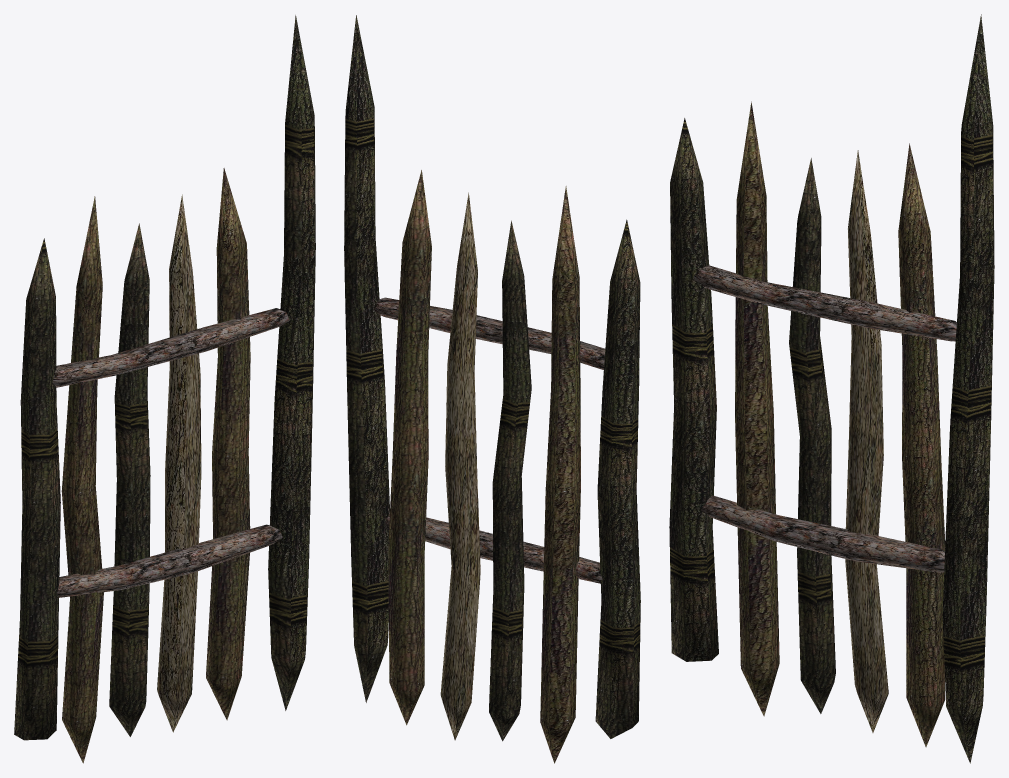
Rendered from GS_MISC_PALISADE_GATE_01.glb.
The picture shows the model from 3 angles, left to right: view 1: azimuth 30°, elevation 25°; view 2: azimuth 150°, elevation 25°; view 3: azimuth 330°, elevation 25°; orthographic projection. The views are drawn at different scales.
Parts seen in each view (by area): view 1: Mesh; view 2: Mesh; view 3: Mesh.
Boxes of the visible parts, bbox=[...] form: Mesh: bbox=[14, 15, 315, 763]; Mesh: bbox=[344, 15, 640, 763]; Mesh: bbox=[669, 14, 994, 763].
Size of the model in its own units: 1.38 by 3.13 by 0.2885.
Materials: 4 (4 with a texture image).
